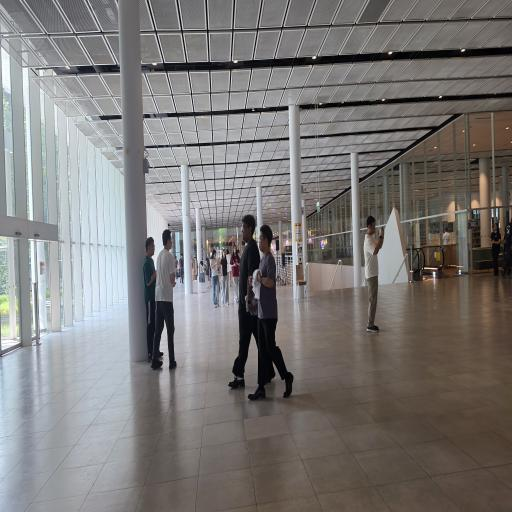person_left: (256, 221, 296, 399), (236, 212, 264, 388)
person_right: (358, 206, 387, 338), (156, 221, 178, 376), (140, 231, 158, 357)
